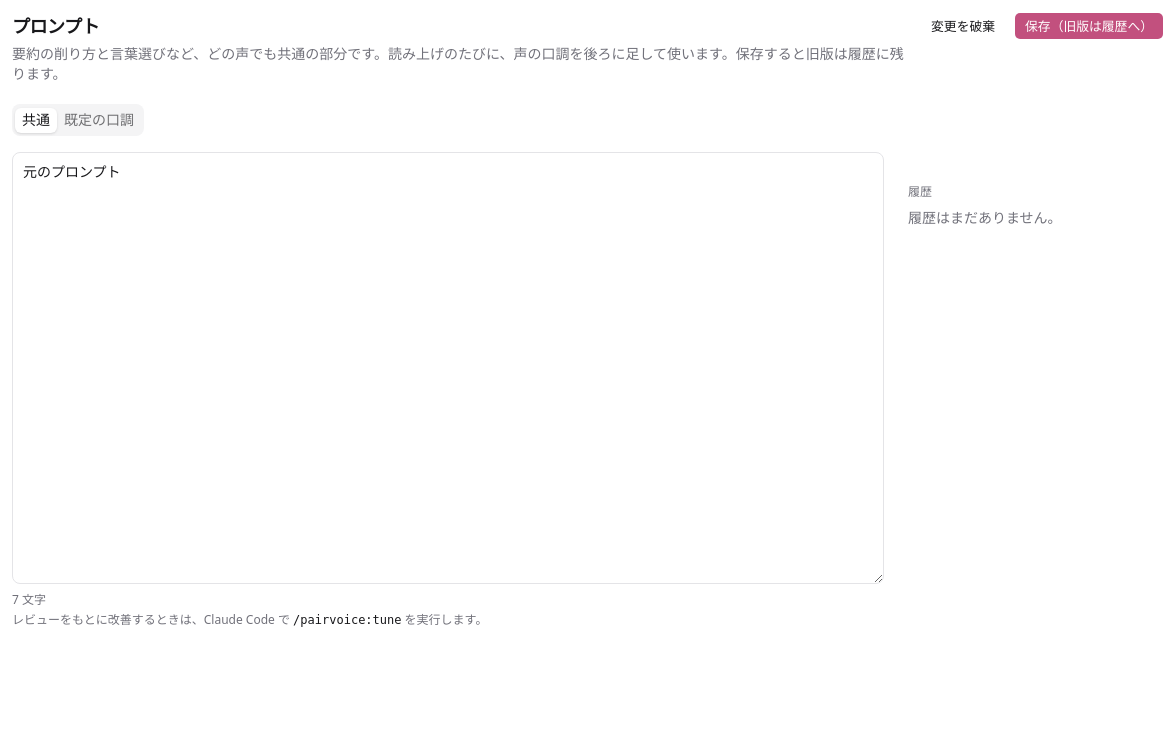
Test: 保存すると本文を PUT し、保存しましたと出す
Replace the text in the text box named "プロンプト" with "新しいプロンプト": (448, 368) [12,152,884,584]
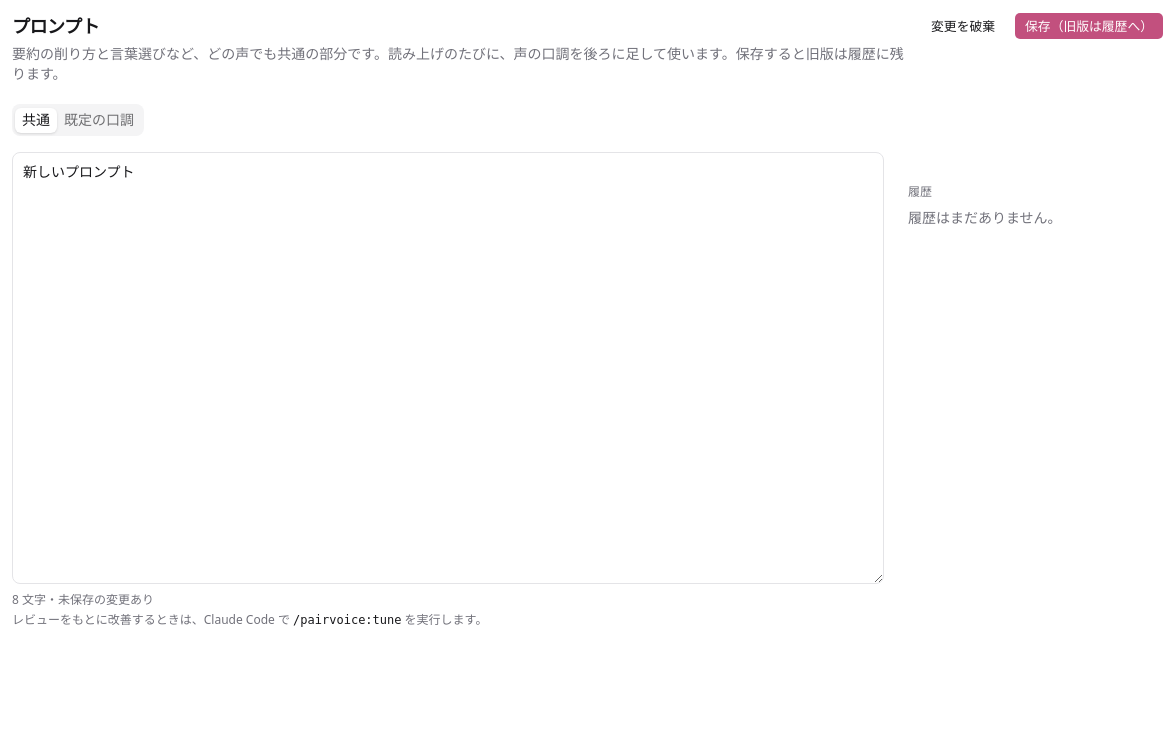
Click the button "保存（旧版は履歴へ）": click(1089, 26) [1014,12,1164,40]
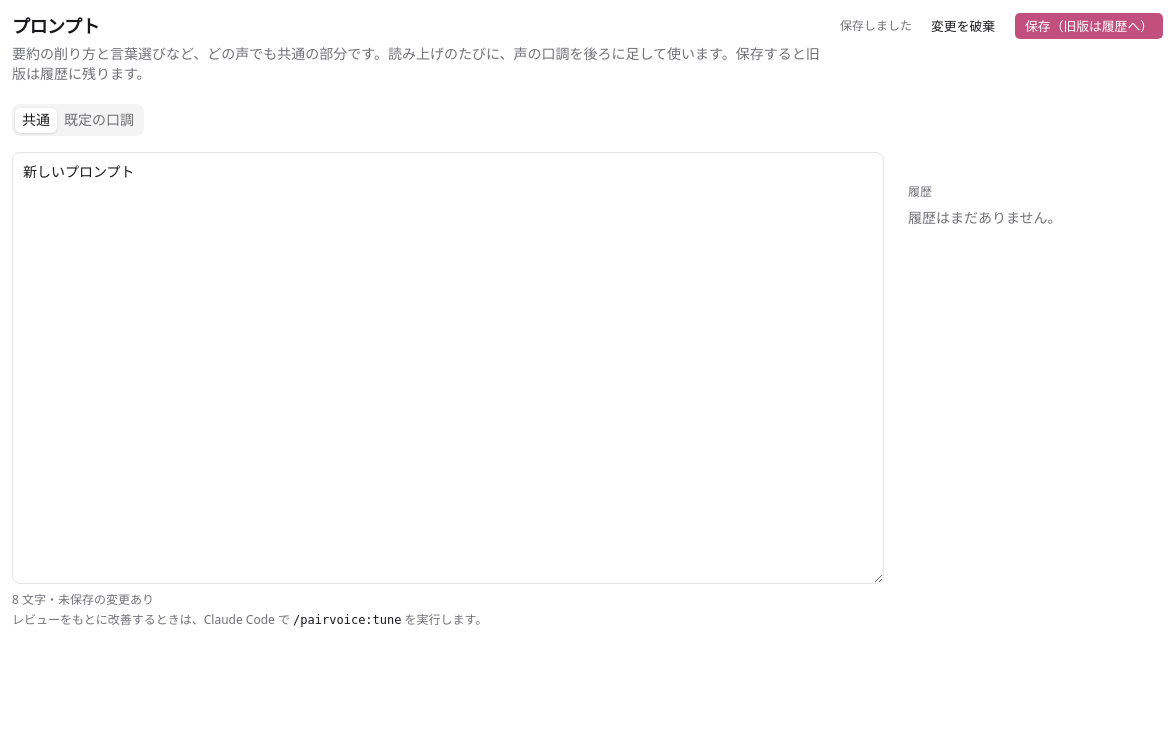
Now the text "保存しました" is shown, box [840,18,912,34]
